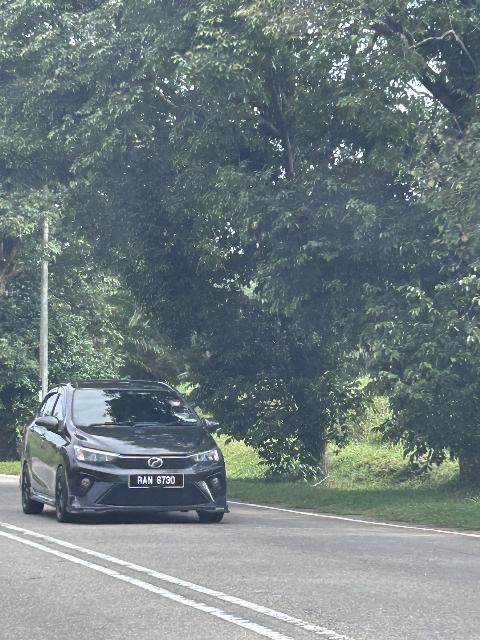License_Plate: (128, 472, 185, 490)
car: (21, 376, 232, 524)
